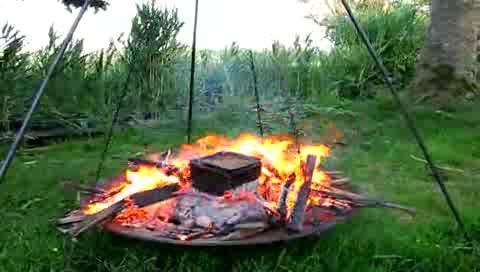fire: (112, 138, 331, 212)
